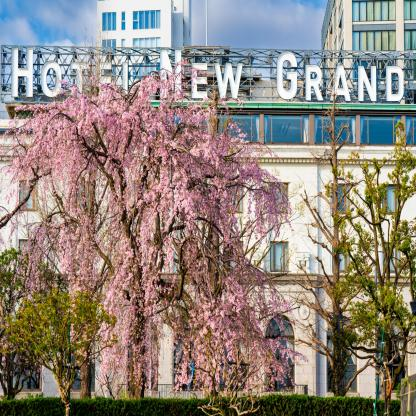ShidareZakura: (0, 56, 315, 416)
